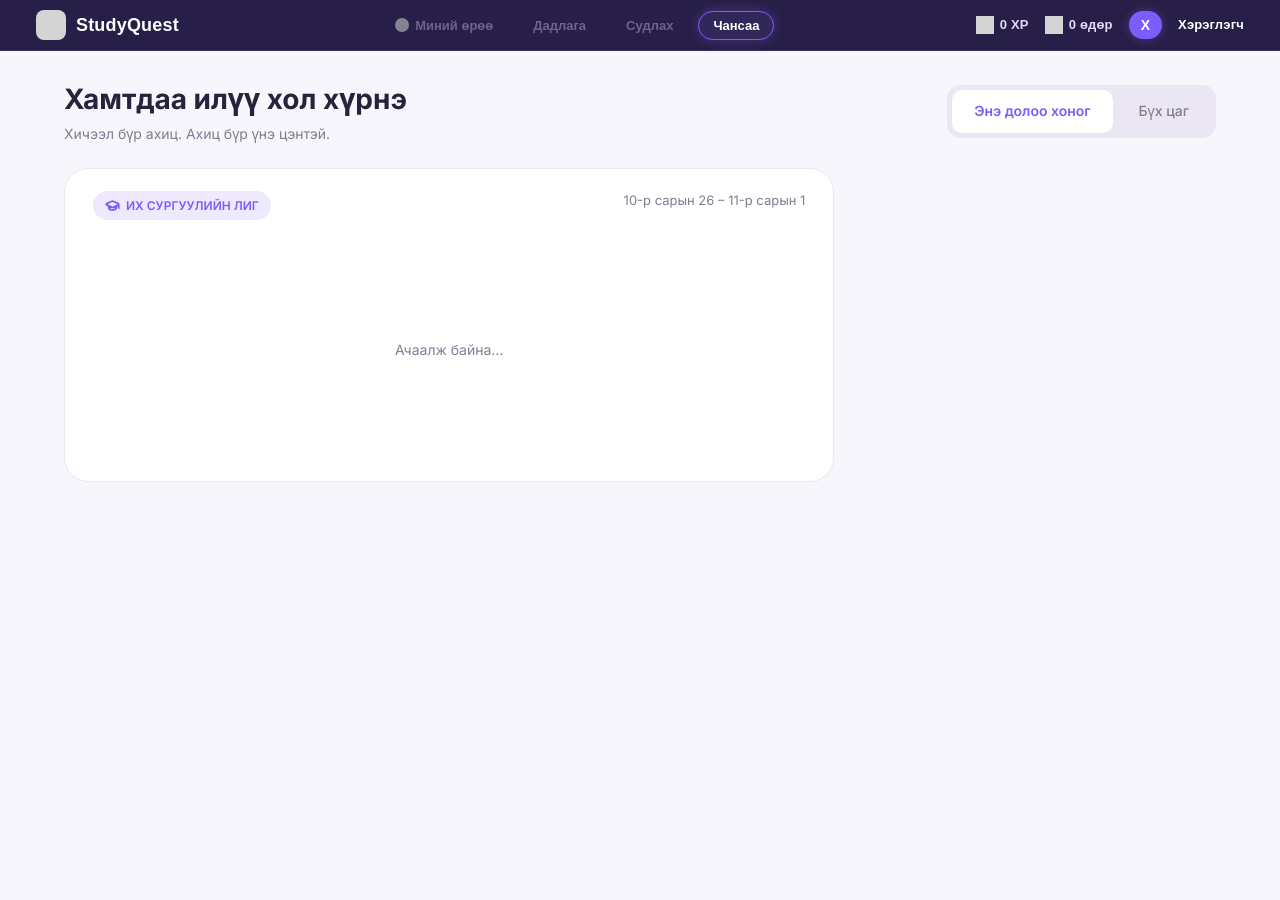
Test: Leaderboard › switches to the all-time ranking
Click the tab "Бүх цаг" at (1164,111), box top-left (1116, 90), bottom-right (1211, 133)
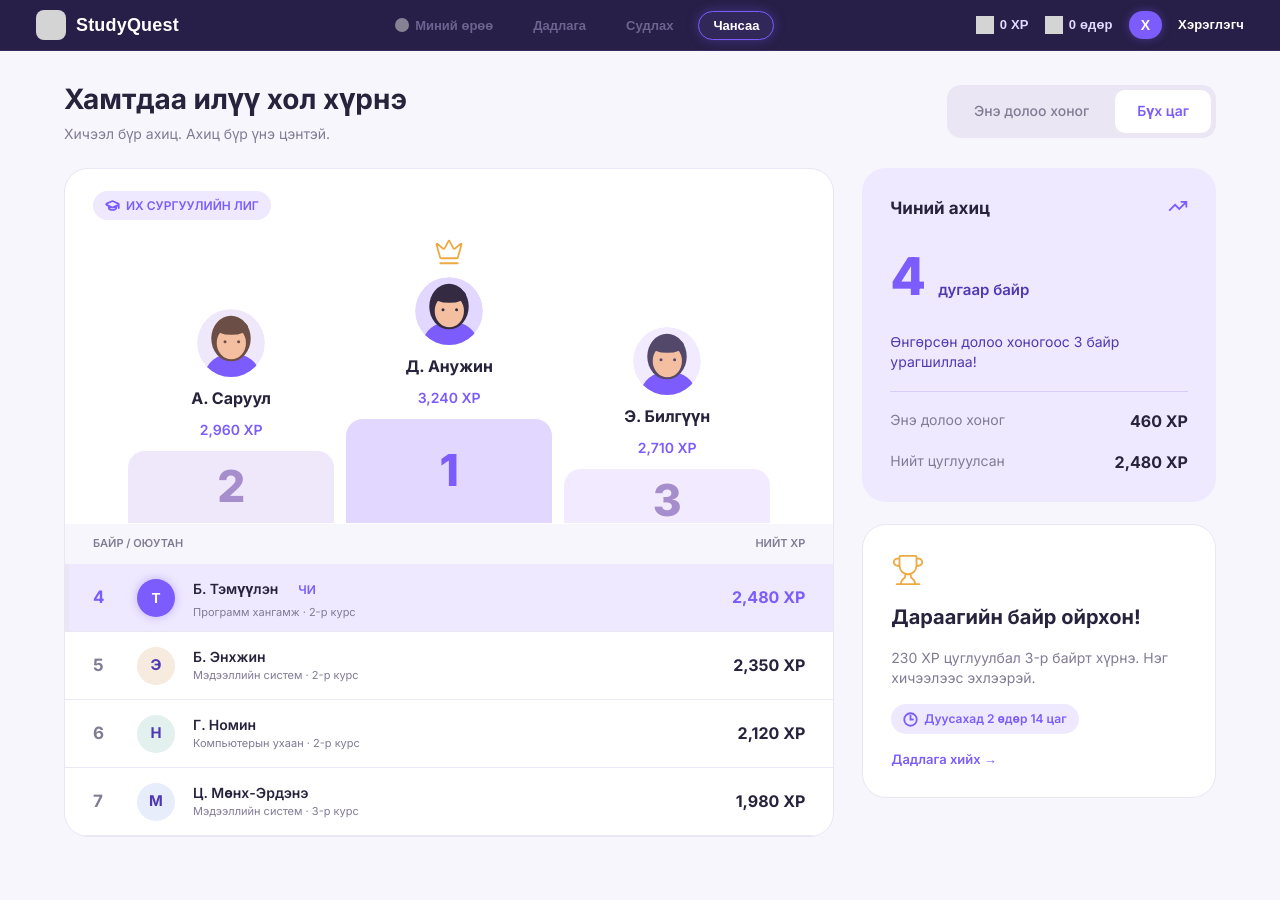
Check: the text "НИЙТ XP" is shown, box top-left (755, 536), bottom-right (805, 552)
Check: the list item "Д. Анужин 3,240 XP 1" is shown, box top-left (345, 237), bottom-right (553, 524)
Check: the list item "ЧИ" shows "2,480 XP", box top-left (732, 587), bottom-right (805, 607)
